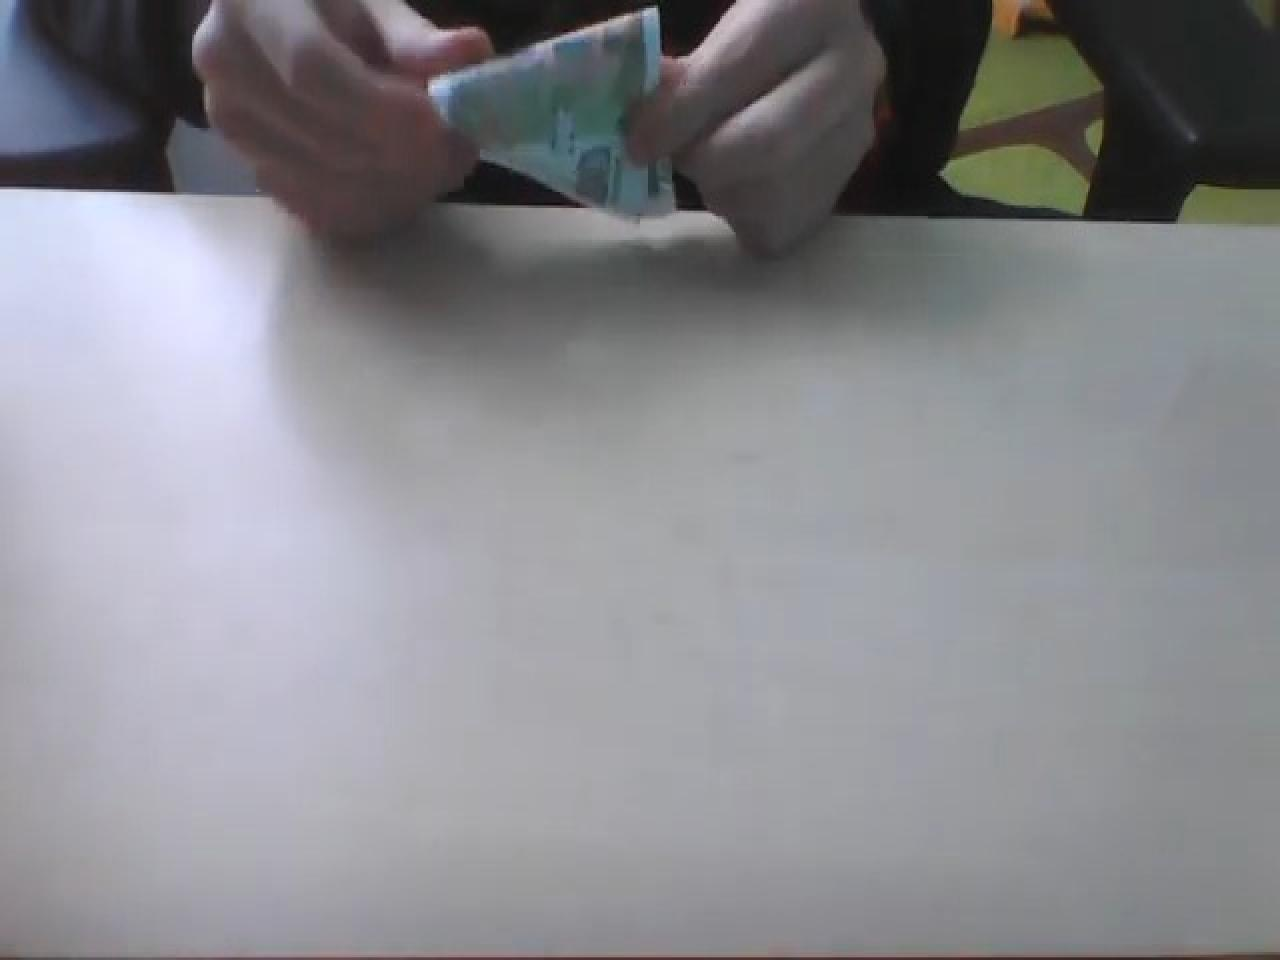100leva: (424, 2, 680, 219)
